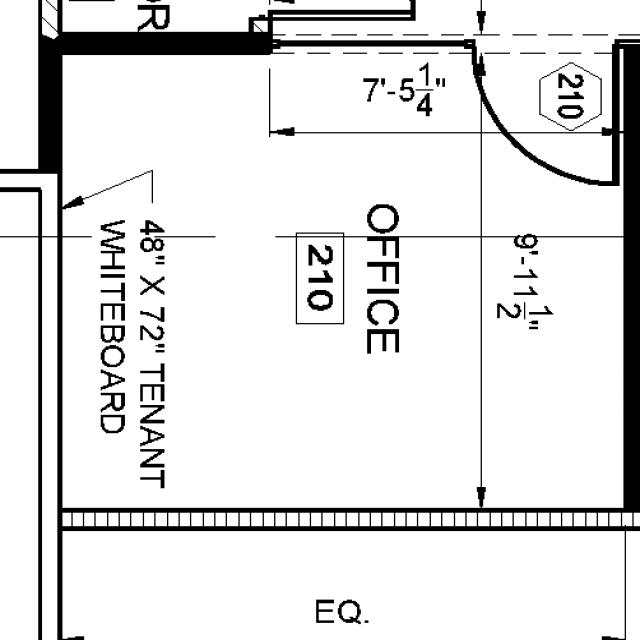Doors: (462, 32, 624, 194)
